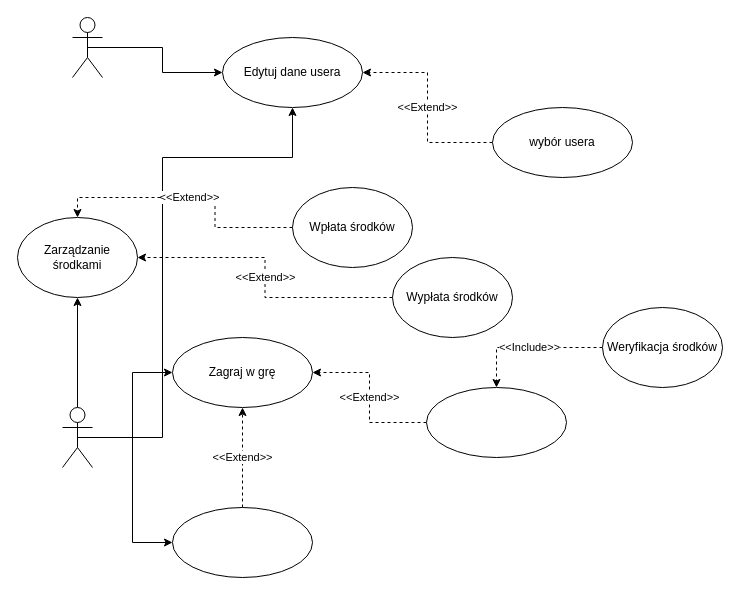
Image size: 740x595. Some labels were removed from this diagram. Each missing label, with the box of its shape:
Admin: (72, 16, 102, 78)
Logowanie: (172, 506, 312, 578)
User: (62, 406, 92, 468)
Wybierz grę: (426, 386, 566, 458)
